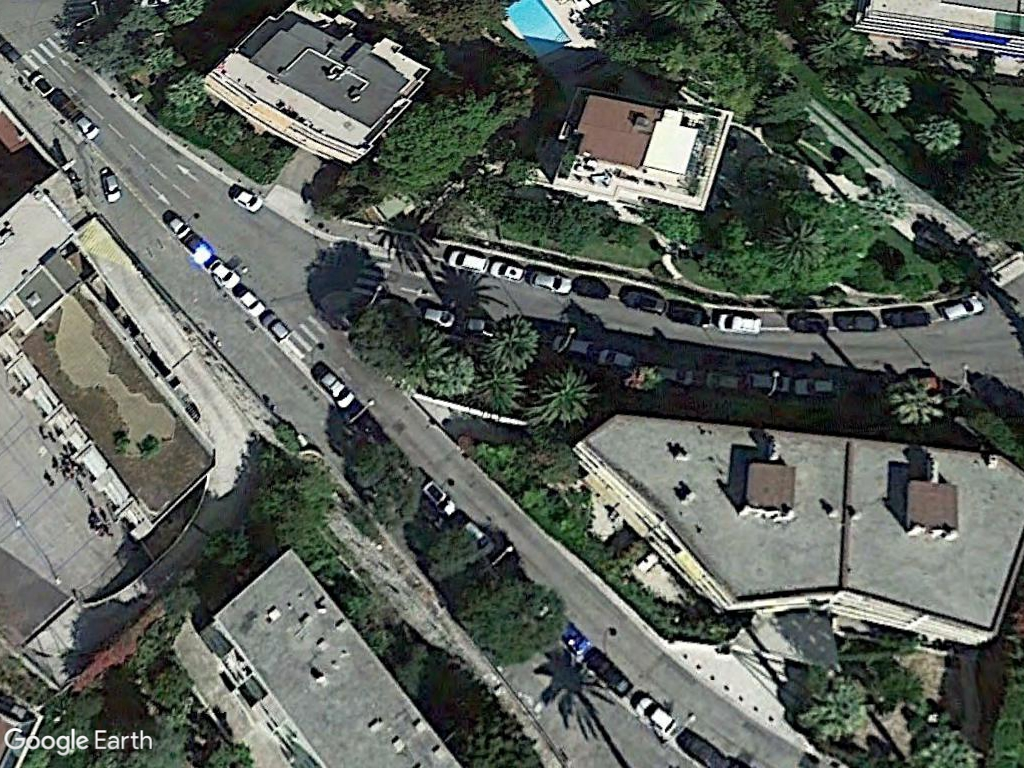car: (529, 262, 574, 296), (447, 244, 492, 274), (228, 181, 268, 213), (97, 165, 125, 209), (884, 307, 935, 329), (835, 312, 881, 332)
van: (716, 308, 767, 336)
